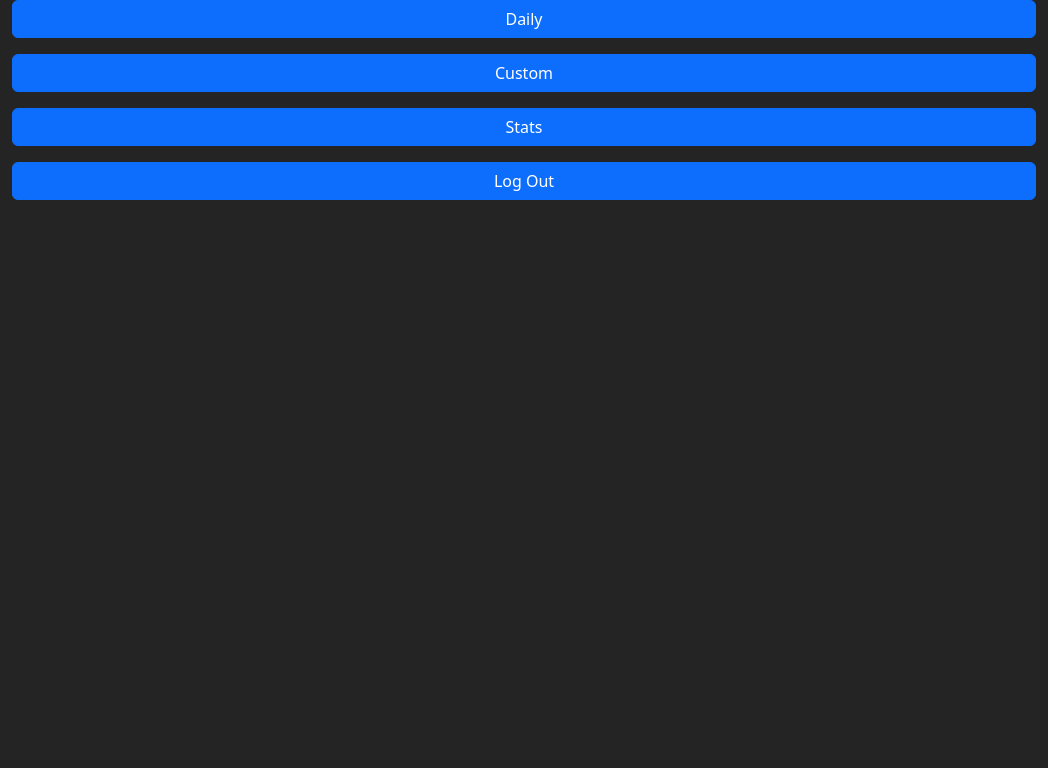
Scenario: Verify Home screen button functions › The daily gameboard is rendered
// Simulate a click on the Link in Home
Click the link "Daily" at (524, 19), box [12,0,1036,38]
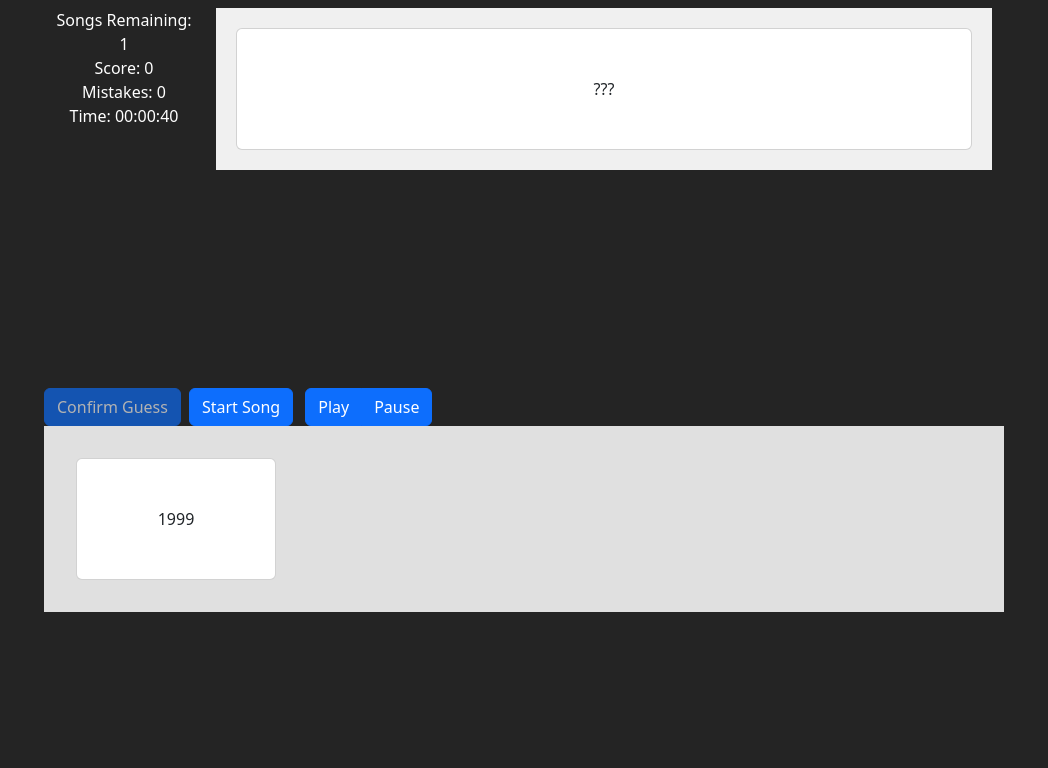
Expected: the element with test id "gameboard-daily" is shown
